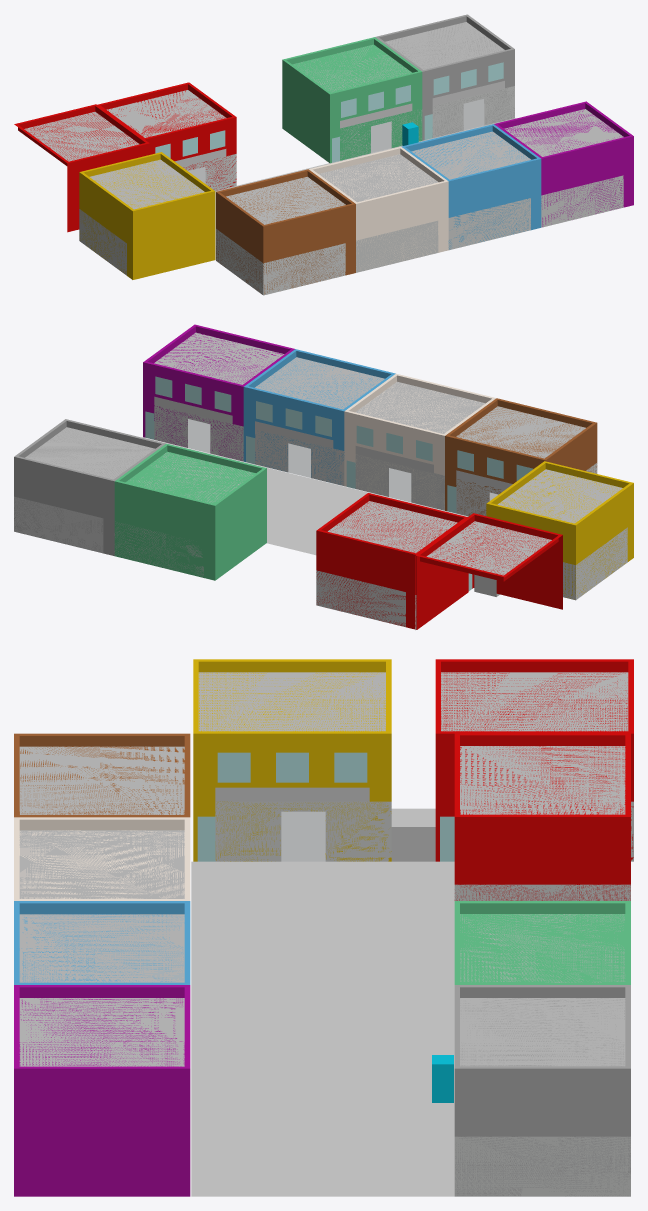
The picture shows the model from 3 angles, top to bottom: view 1: azimuth 30°, elevation 25°; view 2: azimuth 150°, elevation 25°; view 3: azimuth 270°, elevation 25°; orthographic projection. The views are drawn at different scales.
Parts seen in each view (by area): view 1: instance_0_000; view 2: instance_0_000; view 3: instance_0_000.
Part boxes in pixels (x1,y1,x2,y2): instance_0_000: (14, 14, 633, 295); instance_0_000: (14, 324, 633, 630); instance_0_000: (14, 659, 633, 1196).
Bounding box in the file's own units: 44 × 28.14 × 6.7.
